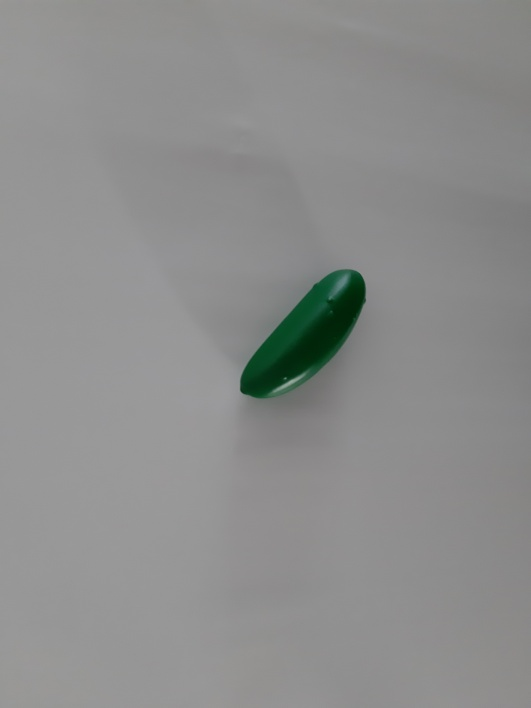cucumber: (229, 253, 386, 426)
